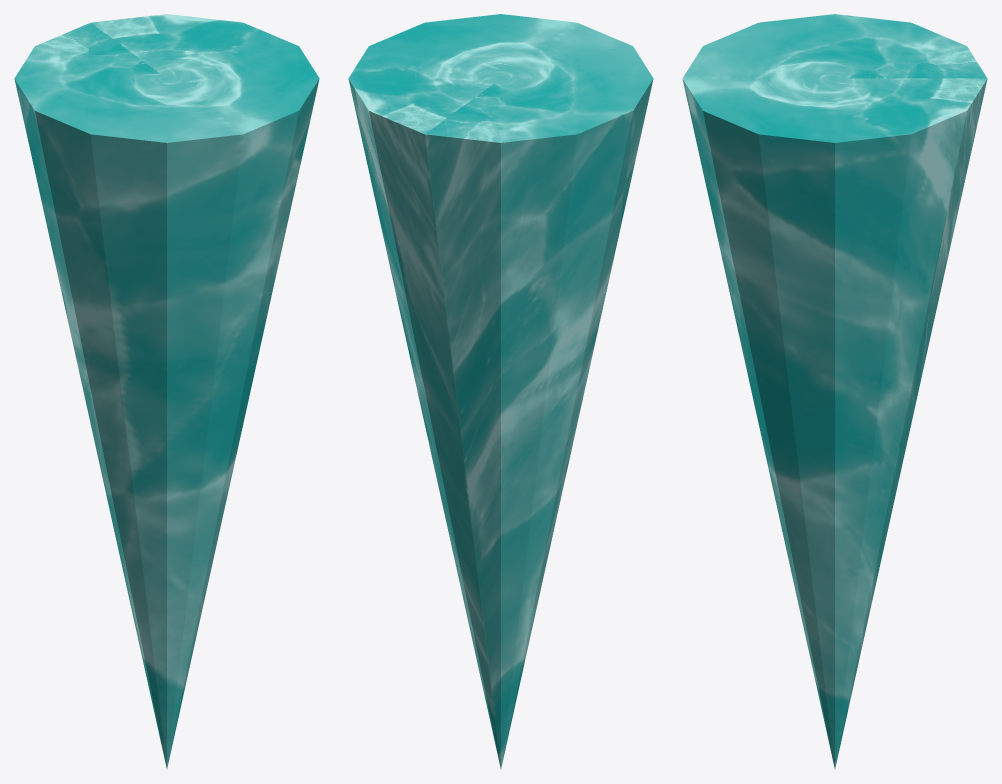
File: Icicle.fbx
The picture shows the model from 3 angles, left to right: view 1: azimuth 30°, elevation 25°; view 2: azimuth 150°, elevation 25°; view 3: azimuth 270°, elevation 25°; orthographic projection.
Visible parts, largest first — view 1: Cone.020; view 2: Cone.020; view 3: Cone.020.
Boxes of the visible parts, box(x1,y1,x2,y2) form: Cone.020: box(14, 14, 319, 768); Cone.020: box(348, 14, 653, 768); Cone.020: box(682, 14, 987, 768).
Bounding box in the file's own units: 80 × 200 × 80.
